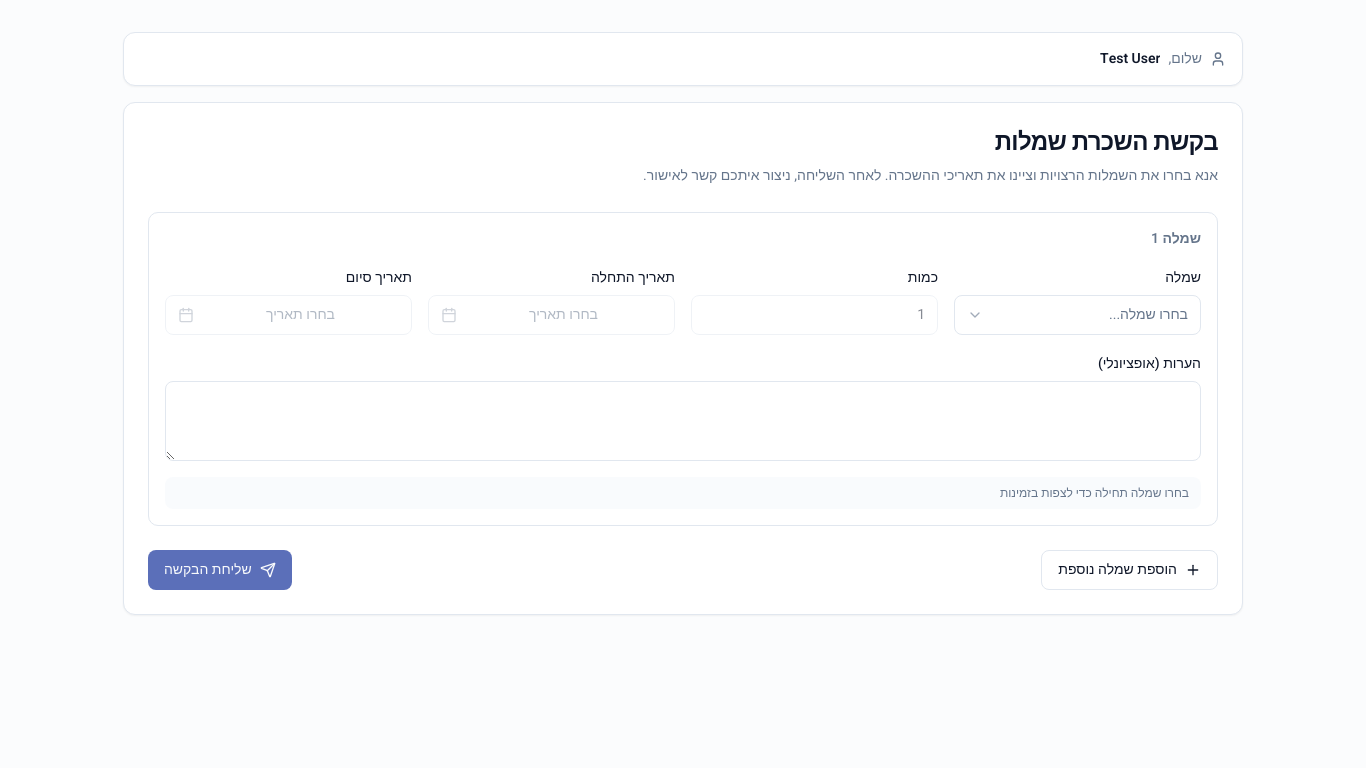
Test: RequestPage › blocks submission when no dress is selected
Expected: the button labelled "בחרו שמלה..." is shown, [954, 295, 1201, 335]
Expected: the button named "תאריך התחלה" is disabled, [428, 295, 675, 335]
Click the button "שליחת הבקשה" at (220, 570), box [148, 550, 292, 590]
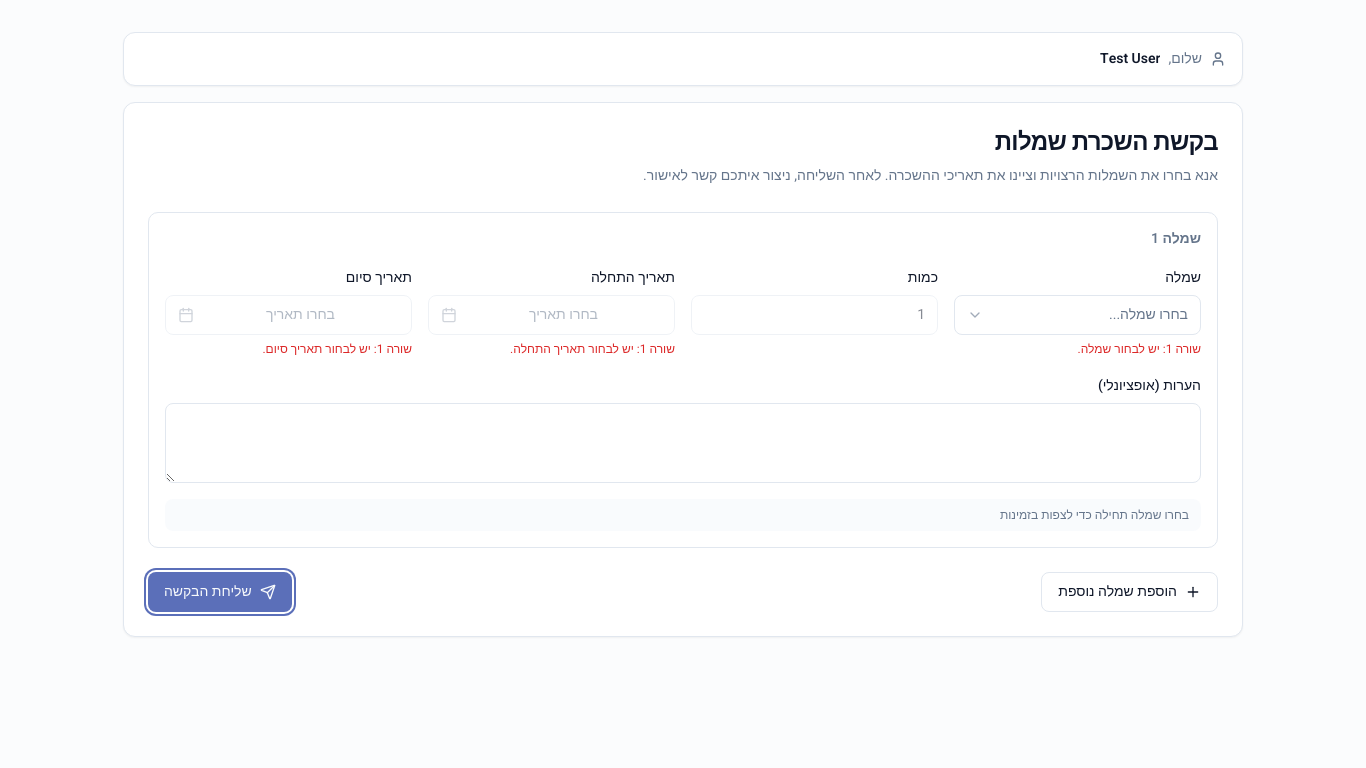
Expected: the text "שורה 1: יש לבחור שמלה." is shown, [1078, 340, 1201, 358]
